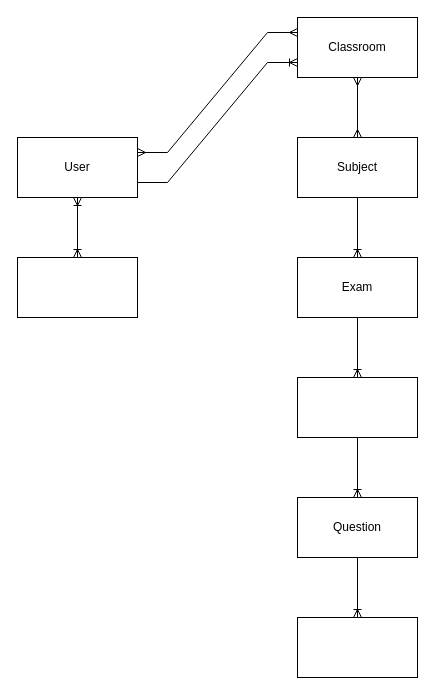
The diagram is 435 pixels wide and 695 high, and some of its shapes have lost their labels. Each missing label, with the centre of its shape:
Options: the point at 357,647
Role: the point at 77,287
Test: the point at 357,407
